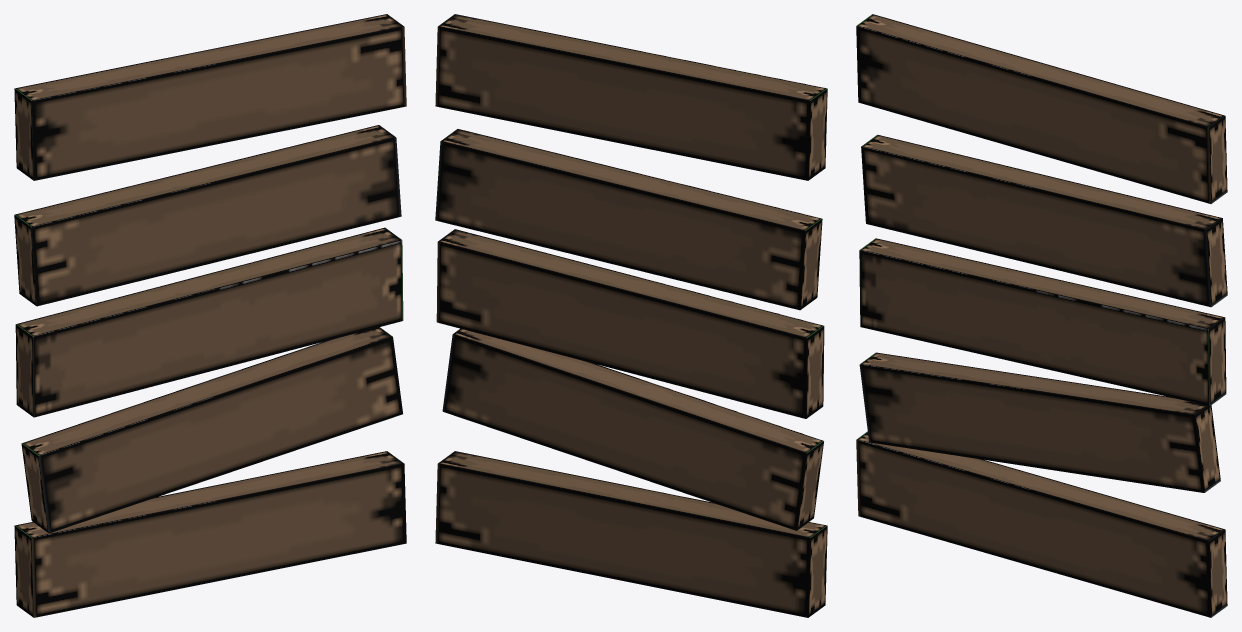
The model's file is deco_winter_woodenFence_shortBig.FBX.
3 renders of one model, left to right at view 1: azimuth 30°, elevation 25°; view 2: azimuth 150°, elevation 25°; view 3: azimuth 330°, elevation 25°, orthographic. The views are drawn at different scales.
Parts seen in each view (by area): view 1: deco_winter_woodenFence_shortBig; view 2: deco_winter_woodenFence_shortBig; view 3: deco_winter_woodenFence_shortBig.
Part boxes in pixels (box(x1,y1,x2,y2)): deco_winter_woodenFence_shortBig: box(14, 14, 406, 617); deco_winter_woodenFence_shortBig: box(435, 14, 827, 617); deco_winter_woodenFence_shortBig: box(856, 14, 1227, 617).
Bounding box in the file's own units: 2.42 × 3.3 × 0.2425.
Materials: 1 (1 with a texture image).
